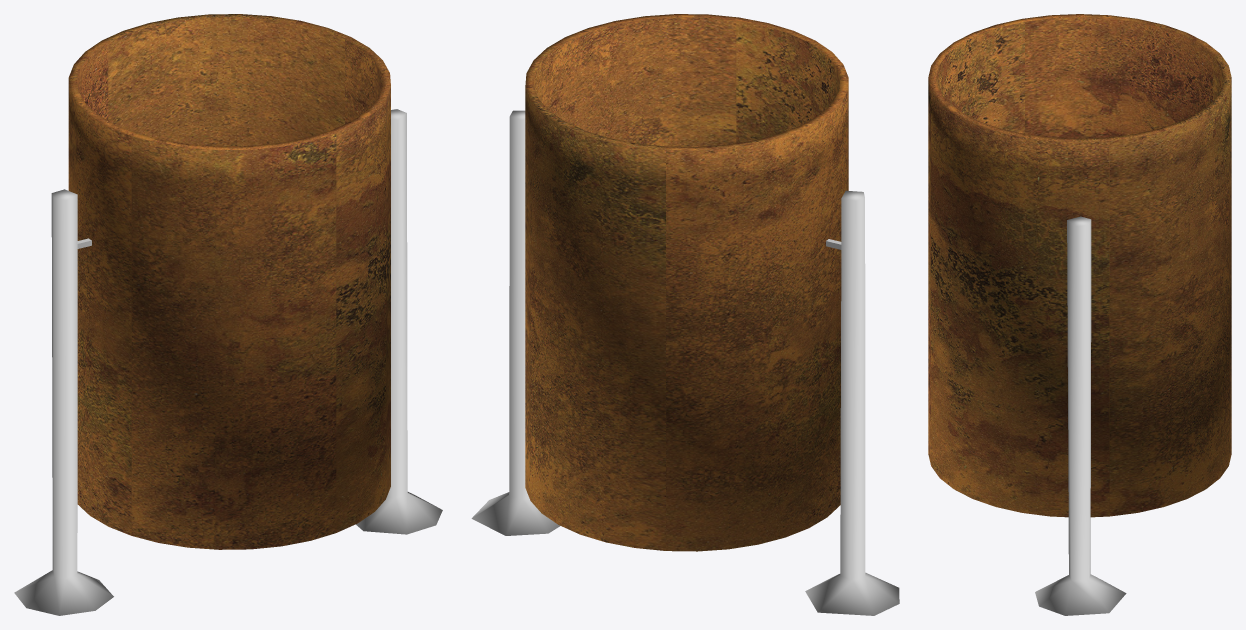
Rendered from trashcan.fbx.
The picture shows the model from 3 angles, left to right: view 1: azimuth 30°, elevation 25°; view 2: azimuth 150°, elevation 25°; view 3: azimuth 270°, elevation 25°; orthographic projection. The views are drawn at different scales.
Visible parts, largest first — view 1: Circle.001; view 2: Circle.001; view 3: Circle.001.
Part boxes in pixels (bbox=[...]): Circle.001: bbox=[14, 14, 442, 615]; Circle.001: bbox=[471, 14, 899, 615]; Circle.001: bbox=[928, 14, 1231, 615].
Bounding box in the file's own units: 54.02 × 59.07 × 36.61.
